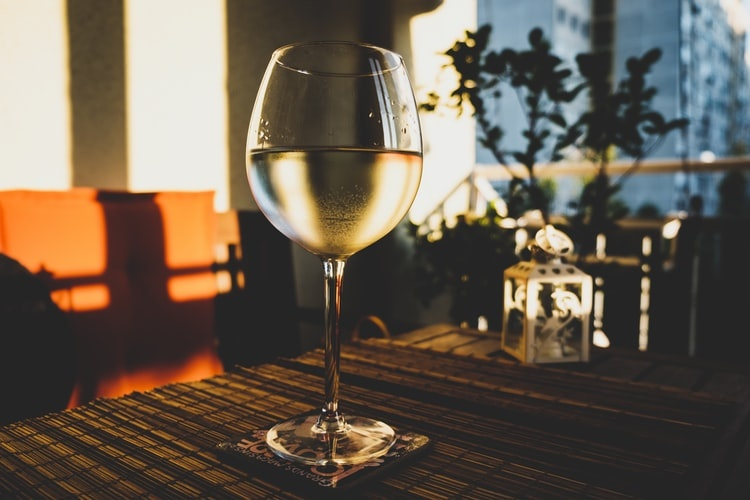whiskey: (255, 45, 418, 444)
